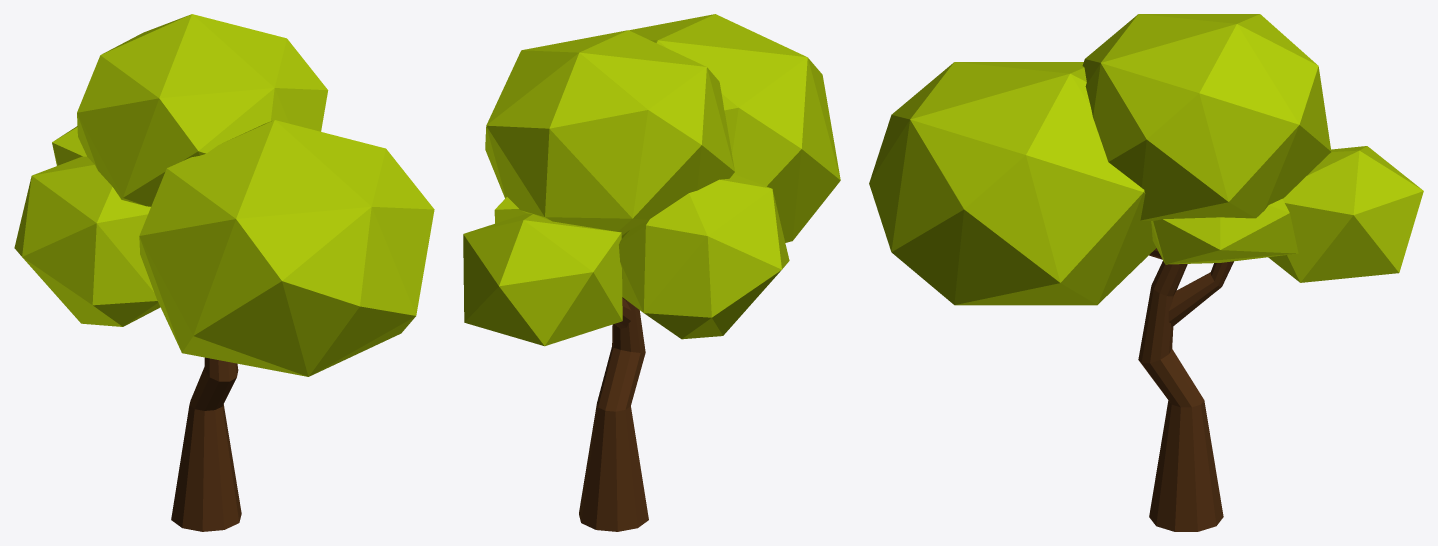
File: Maple_Tree_001.fbx
The picture shows the model from 3 angles, left to right: view 1: azimuth 30°, elevation 25°; view 2: azimuth 150°, elevation 25°; view 3: azimuth 270°, elevation 25°; orthographic projection. The views are drawn at different scales.
Parts seen in each view (by area): view 1: Maple Tree.001; view 2: Maple Tree.001; view 3: Maple Tree.001.
Part boxes in pixels (bbox=[...]): Maple Tree.001: bbox=[14, 14, 434, 531]; Maple Tree.001: bbox=[463, 14, 840, 531]; Maple Tree.001: bbox=[869, 14, 1423, 531].
Size of the model in its own units: 249 by 377 by 381.
